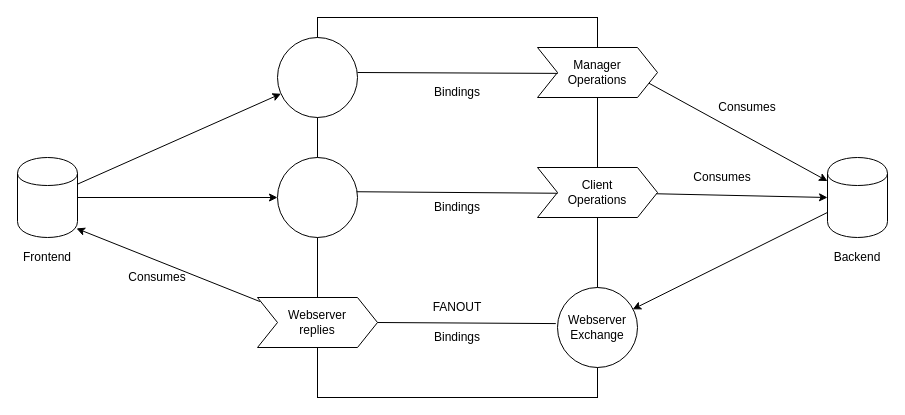
Some shapes in this 905 by 415 pixel diagram are drawn without their labels. The shapes that lost their labels are listed below. From the top down, each one's centre as x and y in pixels, then its label:
At [317,77]: "Chatroom Exchange".
At [317,197]: "Client Exchange".
